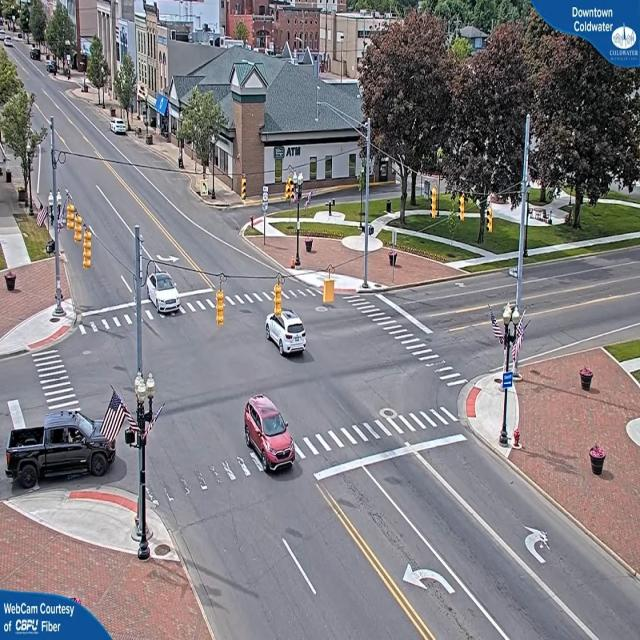car: (6, 410, 115, 494), (243, 397, 296, 474), (264, 309, 308, 358), (145, 271, 181, 314), (111, 121, 131, 138)
